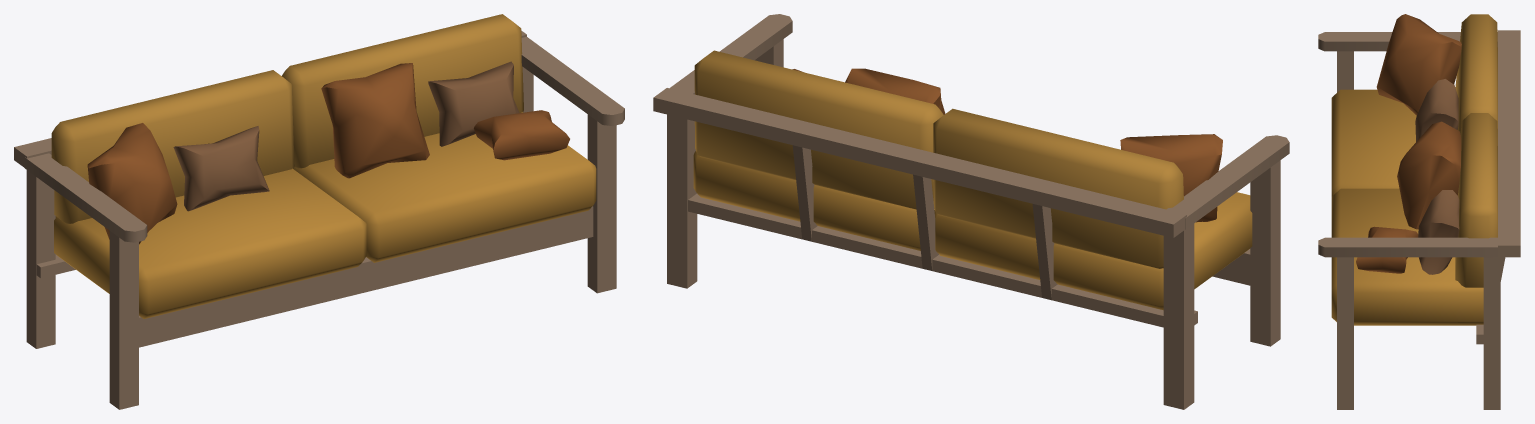
The model's file is sofa006.glb.
3 views of the same model, side by side, from view 1: azimuth 30°, elevation 25°; view 2: azimuth 150°, elevation 25°; view 3: azimuth 270°, elevation 25° (orthographic). The views are drawn at different scales.
Visible parts, largest first — view 1: sofa.006; view 2: sofa.006; view 3: sofa.006.
Part boxes in pixels (left/top/right/bottom): sofa.006: left=14, top=14, right=624, bottom=409; sofa.006: left=653, top=14, right=1289, bottom=409; sofa.006: left=1318, top=14, right=1520, bottom=409.
Bounding box in the file's own units: 2.16 × 0.9018 × 0.8581.
Materials: 1 (1 with a texture image).
